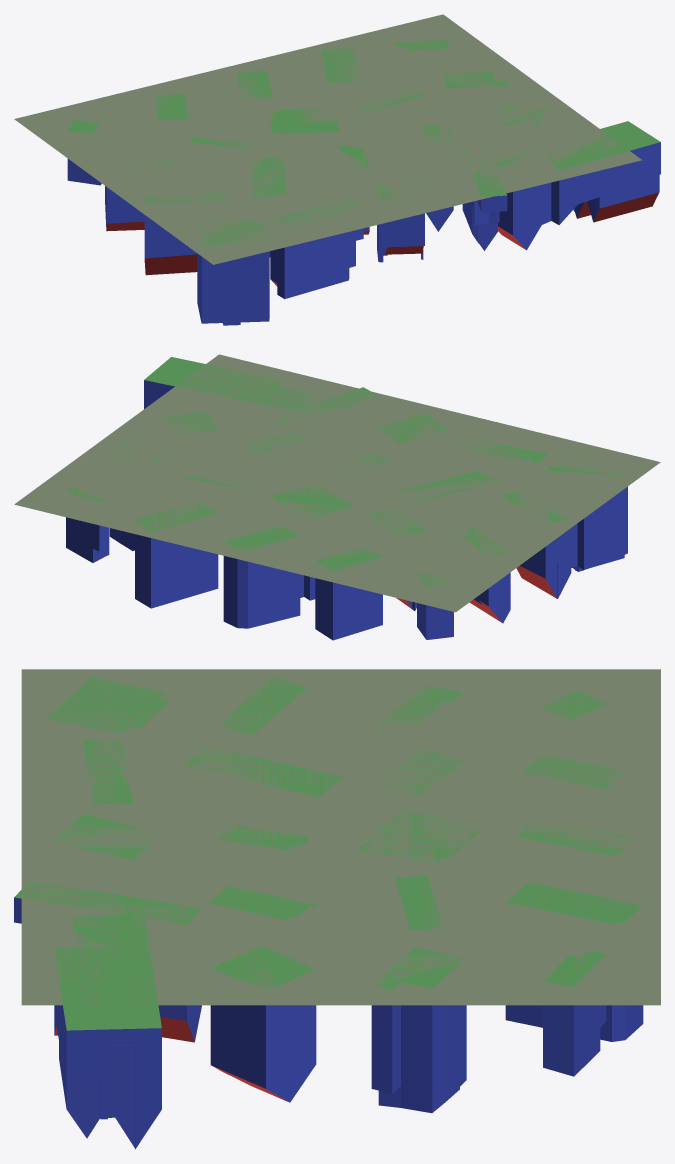
The picture shows the model from 3 angles, top to bottom: view 1: azimuth 30°, elevation 25°; view 2: azimuth 150°, elevation 25°; view 3: azimuth 270°, elevation 25°; orthographic projection. The views are drawn at different scales.
Visible parts, largest first — view 1: ground_plane, building_19_complex, building_15_tri-slope, building_16_complex, building_10_hip, building_18_complex, building_17_complex, building_07_gable, building_05_gable, building_11_hip, building_03_flat, building_09_hip (+7 smaller); view 2: ground_plane, building_03_flat, building_02_flat, building_19_complex, building_01_flat, building_15_tri-slope, building_10_hip, building_07_gable, building_04_gable, building_05_gable, building_00_flat, building_17_complex (+7 smaller); view 3: ground_plane, building_19_complex, building_09_hip, building_14_tri-slope, building_03_flat, building_04_gable, building_18_complex, building_15_tri-slope, building_11_hip, building_07_gable, building_16_complex, building_10_hip (+9 smaller).
Boxes of the visible parts, x1=… form: ground_plane: x1=14, y1=14, x2=641, y2=264; building_19_complex: x1=479, y1=121, x2=660, y2=250; building_15_tri-slope: x1=197, y1=219, x2=269, y2=325; building_16_complex: x1=270, y1=198, x2=363, y2=299; building_10_hip: x1=144, y1=192, x2=225, y2=275; building_18_complex: x1=462, y1=147, x2=507, y2=250; building_17_complex: x1=377, y1=181, x2=424, y2=262; building_07_gable: x1=269, y1=108, x2=339, y2=134; building_05_gable: x1=105, y1=156, x2=175, y2=231; building_11_hip: x1=251, y1=157, x2=285, y2=257; building_03_flat: x1=321, y1=48, x2=359, y2=82; building_09_hip: x1=443, y1=72, x2=508, y2=88; ground_plane: x1=14, y1=354, x2=660, y2=612; building_03_flat: x1=135, y1=501, x2=218, y2=608; building_02_flat: x1=223, y1=525, x2=300, y2=628; building_19_complex: x1=144, y1=357, x2=319, y2=413; building_01_flat: x1=315, y1=547, x2=382, y2=640; building_15_tri-slope: x1=544, y1=452, x2=627, y2=571; building_10_hip: x1=501, y1=491, x2=571, y2=598; building_07_gable: x1=271, y1=483, x2=354, y2=600; building_04_gable: x1=66, y1=487, x2=109, y2=562; building_05_gable: x1=460, y1=527, x2=510, y2=623; building_00_flat: x1=417, y1=573, x2=453, y2=639; building_17_complex: x1=376, y1=413, x2=449, y2=443; ground_plane: x1=21, y1=669, x2=660, y2=1005; building_19_complex: x1=54, y1=906, x2=161, y2=1149; building_09_hip: x1=371, y1=947, x2=466, y2=1113; building_14_tri-slope: x1=210, y1=946, x2=316, y2=1102; building_03_flat: x1=505, y1=882, x2=643, y2=1041; building_04_gable: x1=543, y1=950, x2=606, y2=1076; building_18_complex: x1=14, y1=881, x2=201, y2=1042; building_15_tri-slope: x1=45, y1=677, x2=170, y2=733; building_11_hip: x1=184, y1=746, x2=343, y2=796; building_07_gable: x1=358, y1=810, x2=479, y2=863; building_16_complex: x1=82, y1=738, x2=133, y2=804; building_10_hip: x1=219, y1=677, x2=307, y2=734.
Size of the model in its own units: 98.96 by 18.63 by 74.89.
